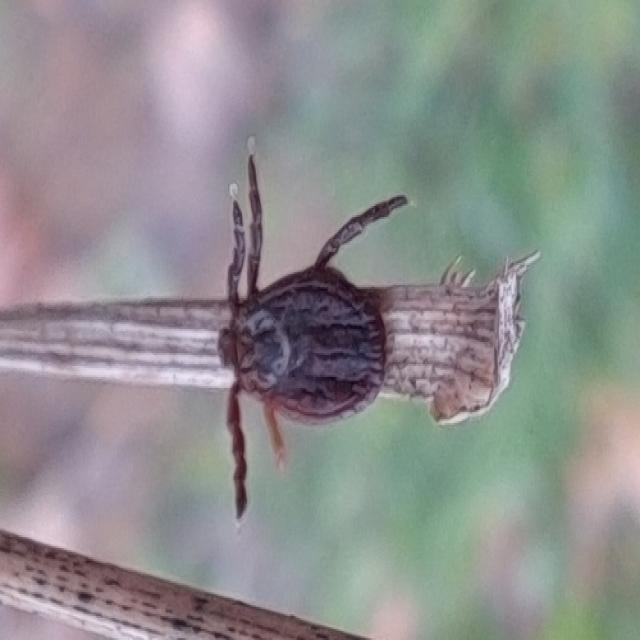Dermacentor Reticulatus-F: (216, 136, 407, 520)
